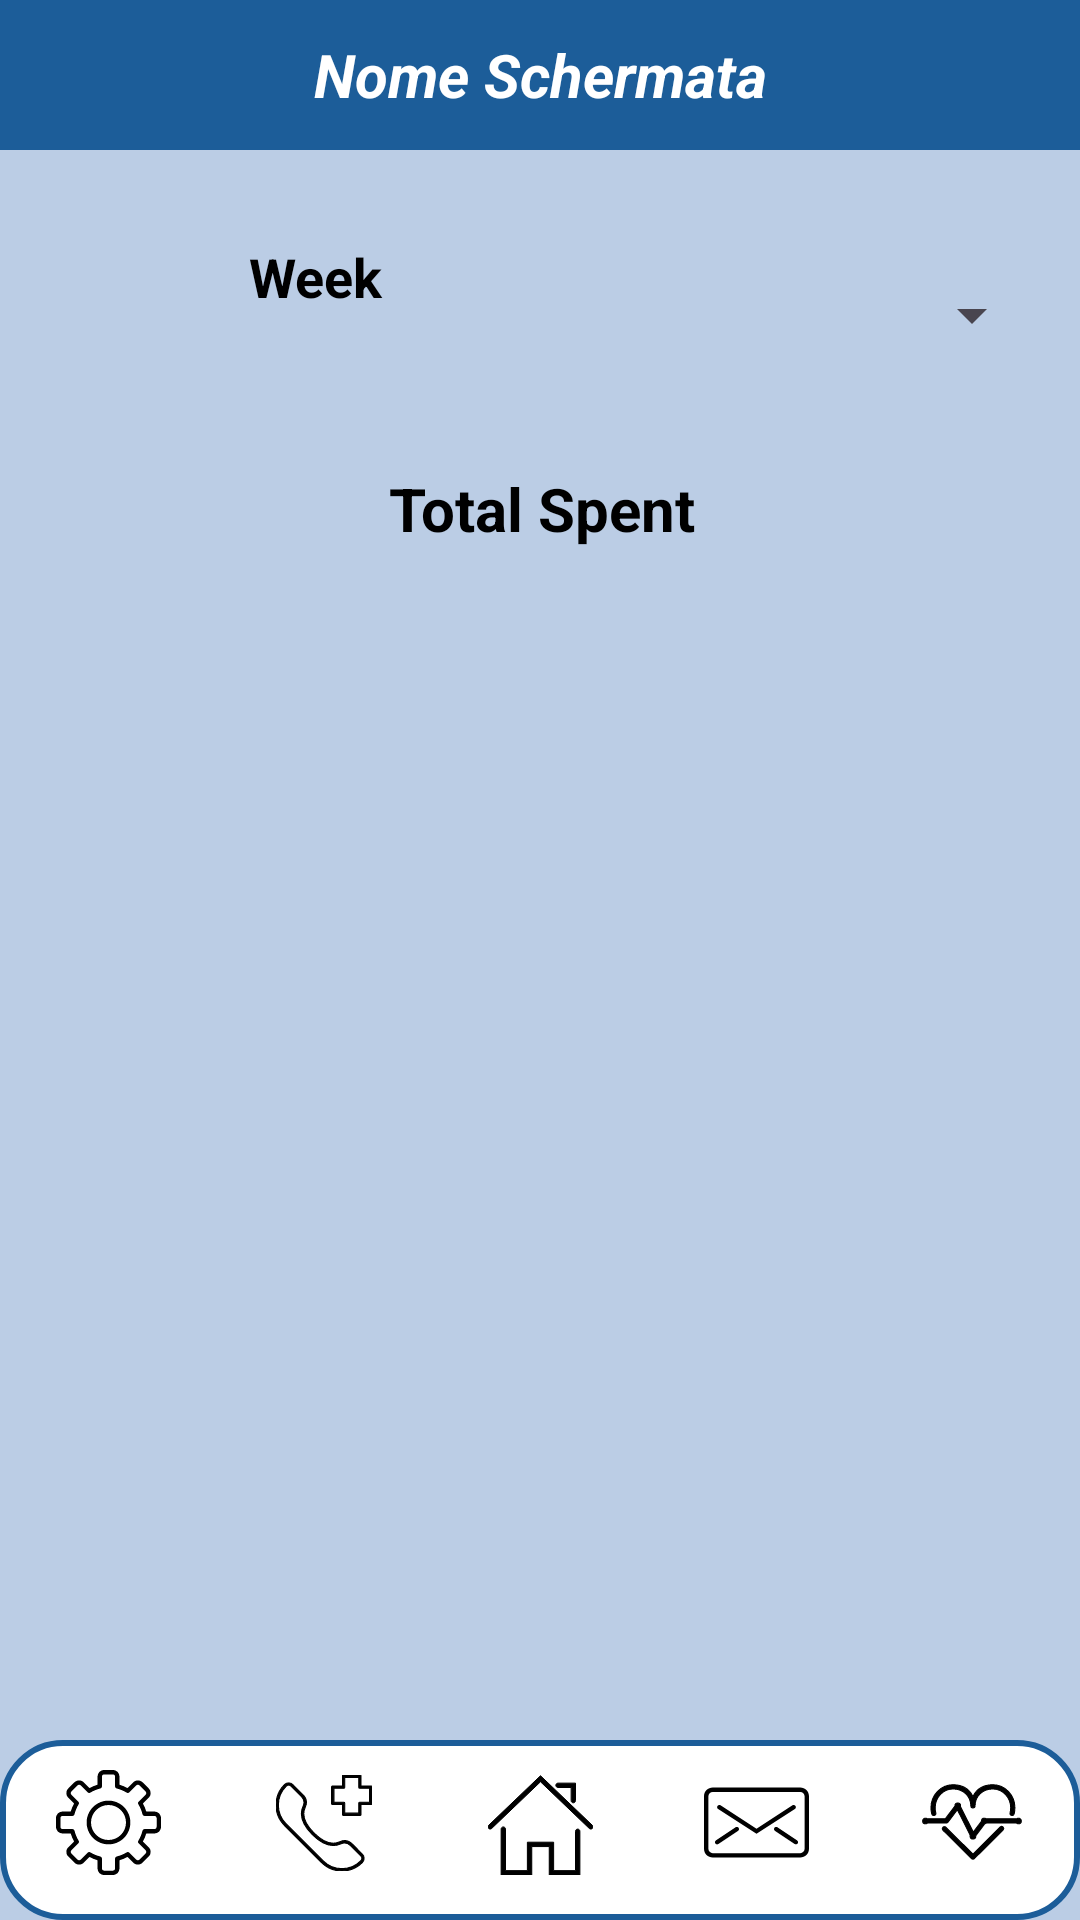

Where to tap for icons on this 1080x1920 app screen, as (x=x, y=y):
home: (x=540, y=1825)
message: (x=756, y=1822)
misurazioni: (x=972, y=1822)
setting: (x=108, y=1822)
sos: (x=324, y=1823)
